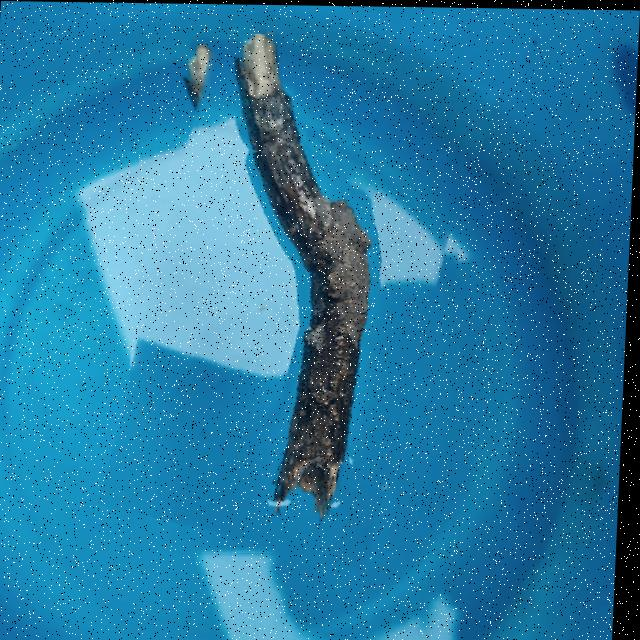wood: (126, 31, 474, 557)
